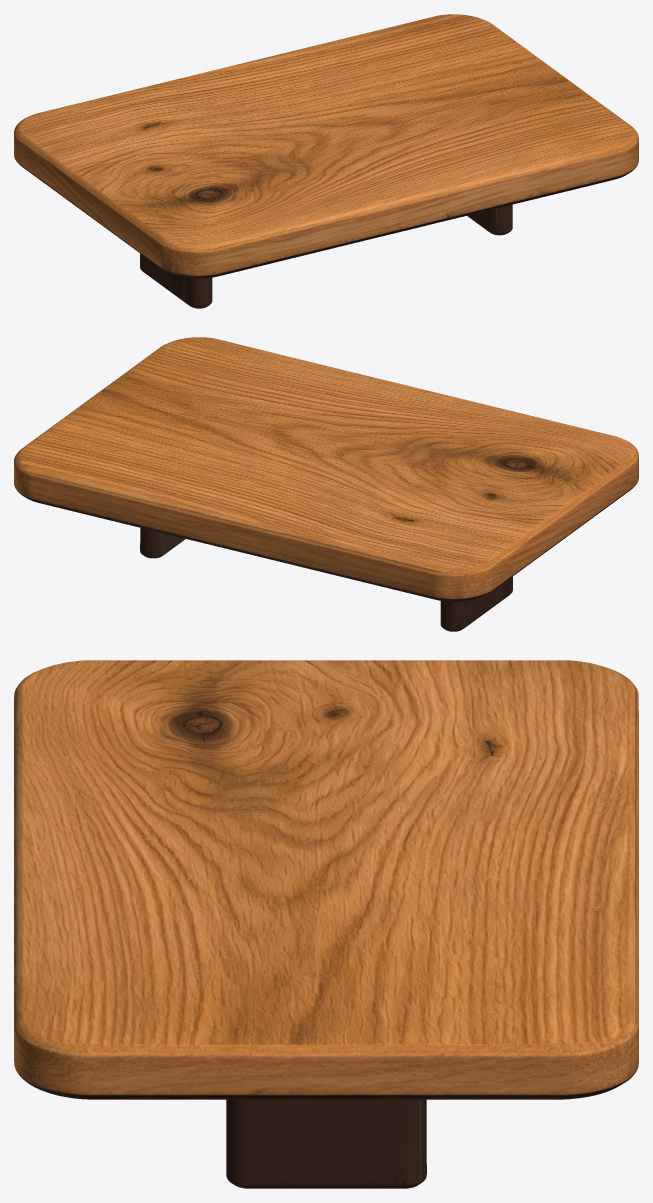
The model's file is snack-board.glb.
3 views of the same model, one above another, from view 1: azimuth 30°, elevation 25°; view 2: azimuth 150°, elevation 25°; view 3: azimuth 270°, elevation 25° (orthographic). The views are drawn at different scales.
Visible parts, largest first — view 1: mesh; view 2: mesh; view 3: mesh.
Boxes of the visible parts, box(x1,y1,x2,y2) form: mesh: box(14, 14, 638, 308); mesh: box(14, 337, 638, 631); mesh: box(14, 660, 638, 1188).
Size of the model in its own units: 2 by 0.4912 by 1.35.
1 material, 1 textured.
